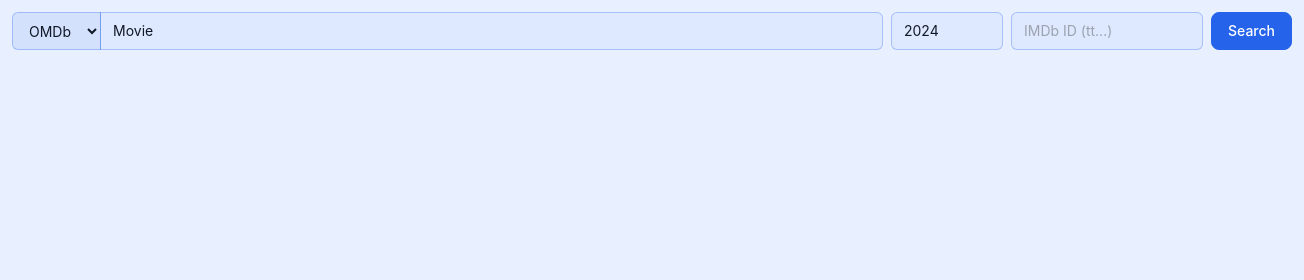
Scenario: TitleSearch › interactions › renders multiple search results
Click the button "Search" at (1252, 31), box [1211,12,1292,50]
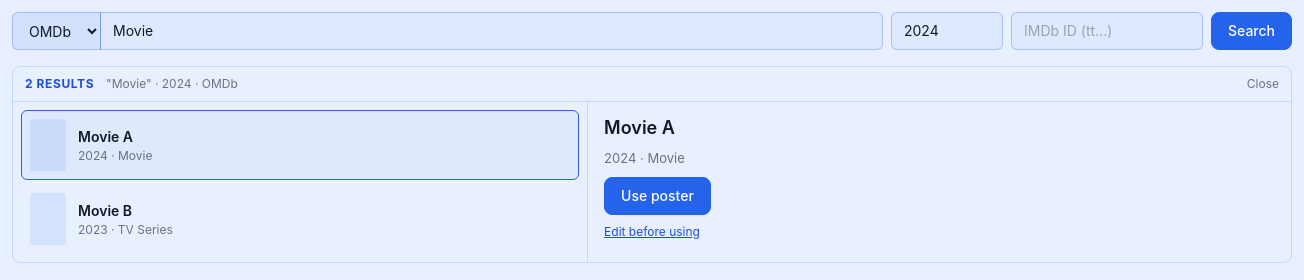
Now the button "Movie A 2024 · Movie" is shown, box [21,110,579,180]
Now the button "Movie B 2023 · TV Series" is shown, box [21,184,579,254]
